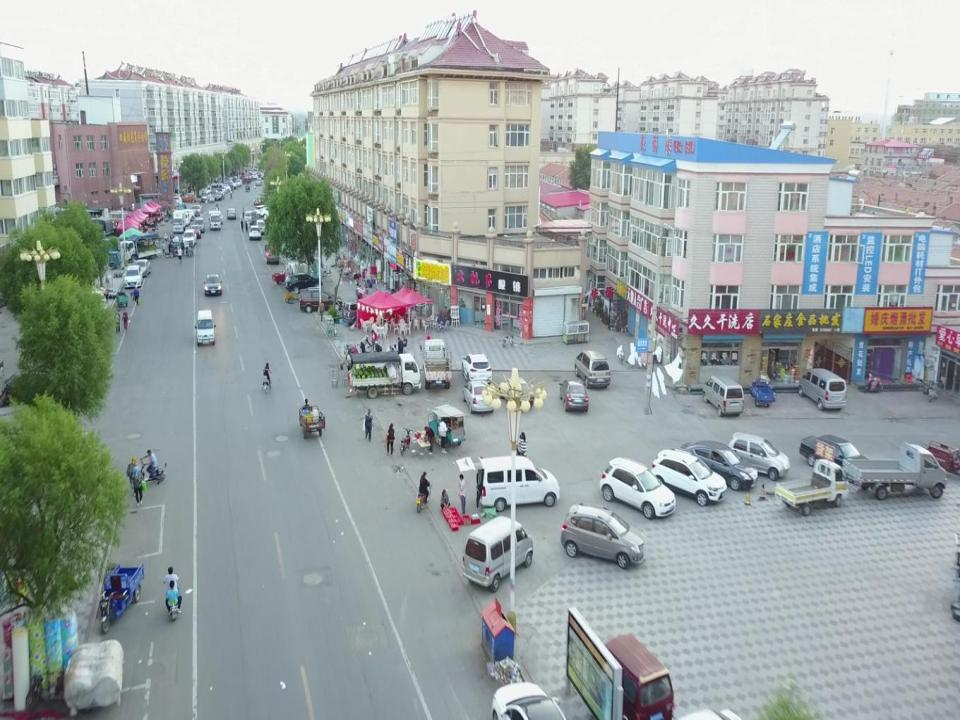car: (560, 502, 646, 568), (600, 457, 676, 520), (651, 449, 727, 506), (679, 441, 758, 492), (799, 434, 873, 486), (725, 431, 791, 481), (492, 681, 567, 720), (462, 380, 495, 417), (499, 378, 534, 412), (559, 379, 589, 414), (462, 353, 492, 386), (284, 273, 322, 294), (122, 264, 143, 288), (204, 274, 222, 296), (265, 239, 290, 253), (132, 259, 151, 277), (266, 244, 279, 264), (256, 207, 279, 218), (194, 216, 206, 234), (249, 225, 261, 241), (180, 193, 198, 203), (189, 224, 201, 239), (179, 213, 190, 227), (190, 204, 202, 216), (212, 212, 223, 224), (181, 211, 194, 221), (226, 208, 236, 219), (214, 190, 224, 201), (253, 195, 264, 205)
truck: (842, 441, 948, 501), (774, 458, 848, 515), (348, 353, 421, 399), (419, 339, 452, 389), (119, 234, 162, 262), (172, 212, 186, 234), (208, 210, 221, 231)
van: (596, 634, 675, 720), (455, 456, 560, 512), (462, 515, 534, 592), (798, 368, 847, 410), (702, 375, 744, 417), (574, 350, 610, 389), (300, 287, 342, 313), (342, 298, 380, 326), (194, 310, 216, 346), (182, 228, 197, 248), (244, 211, 260, 225), (254, 219, 266, 236), (201, 190, 212, 202)
